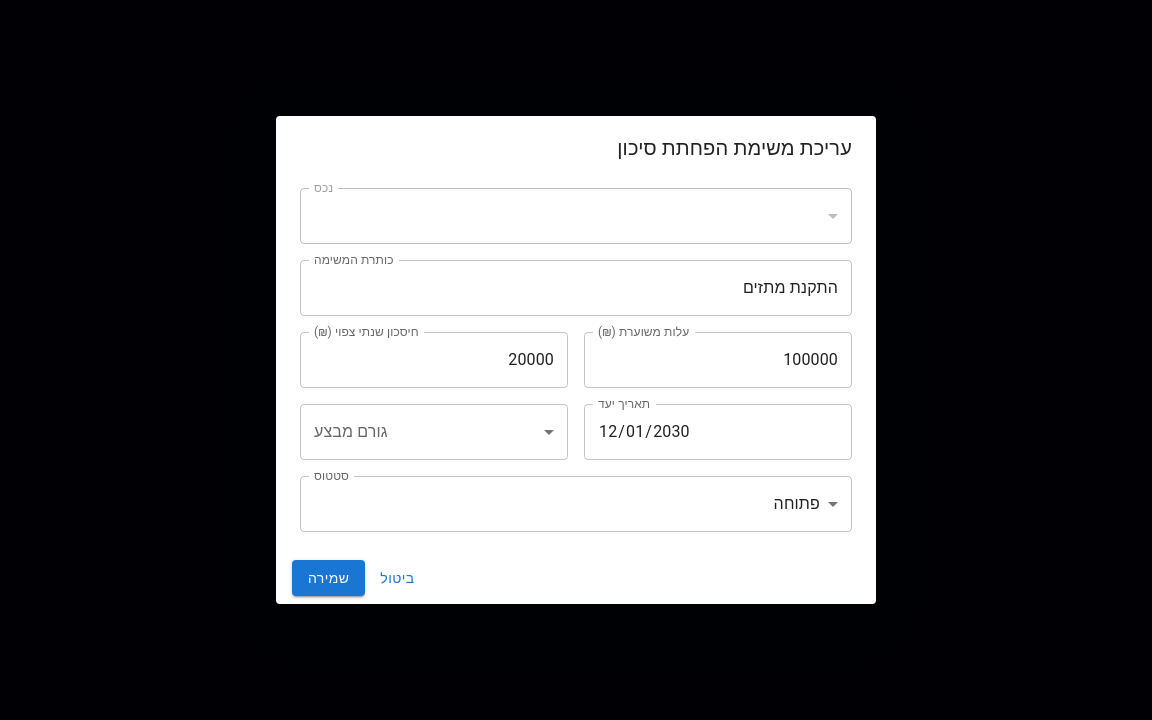
Test: MitigationTaskDialog › shows the backend's reason when saving fails
Click the button "שמירה" at (329, 578), box [292,560,365,596]
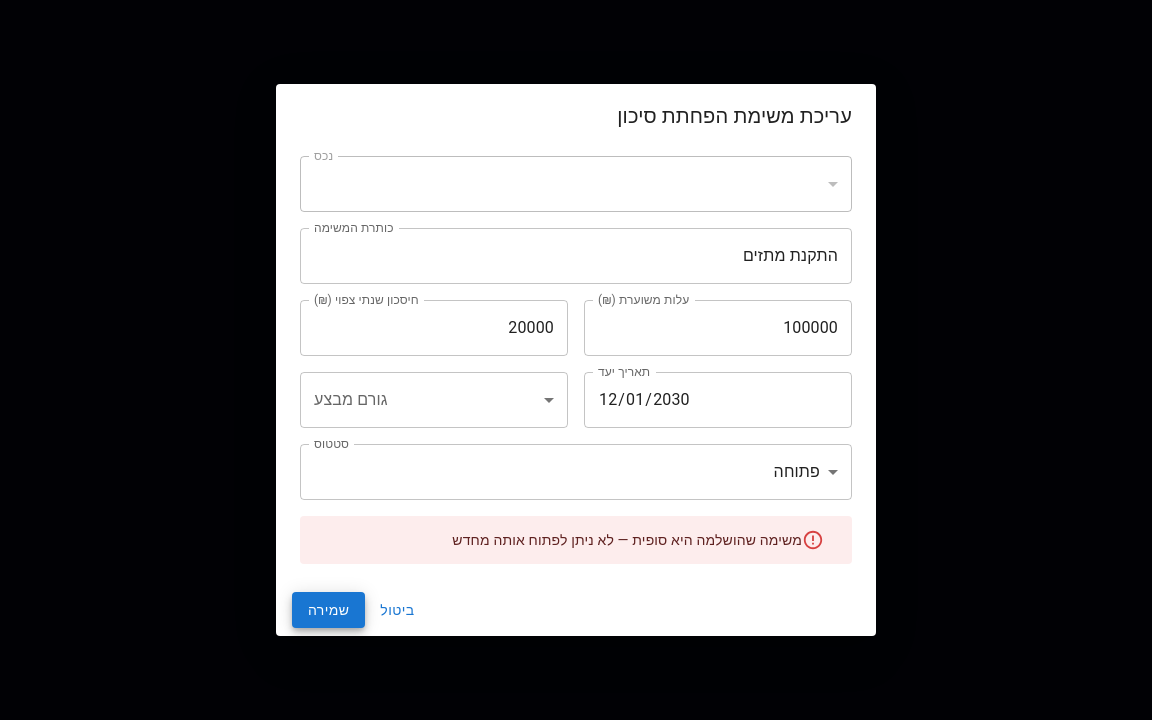
Result: the text "משימה שהושלמה היא סופית — לא ניתן לפתוח אותה מחדש" is shown at [452,532,802,548]
